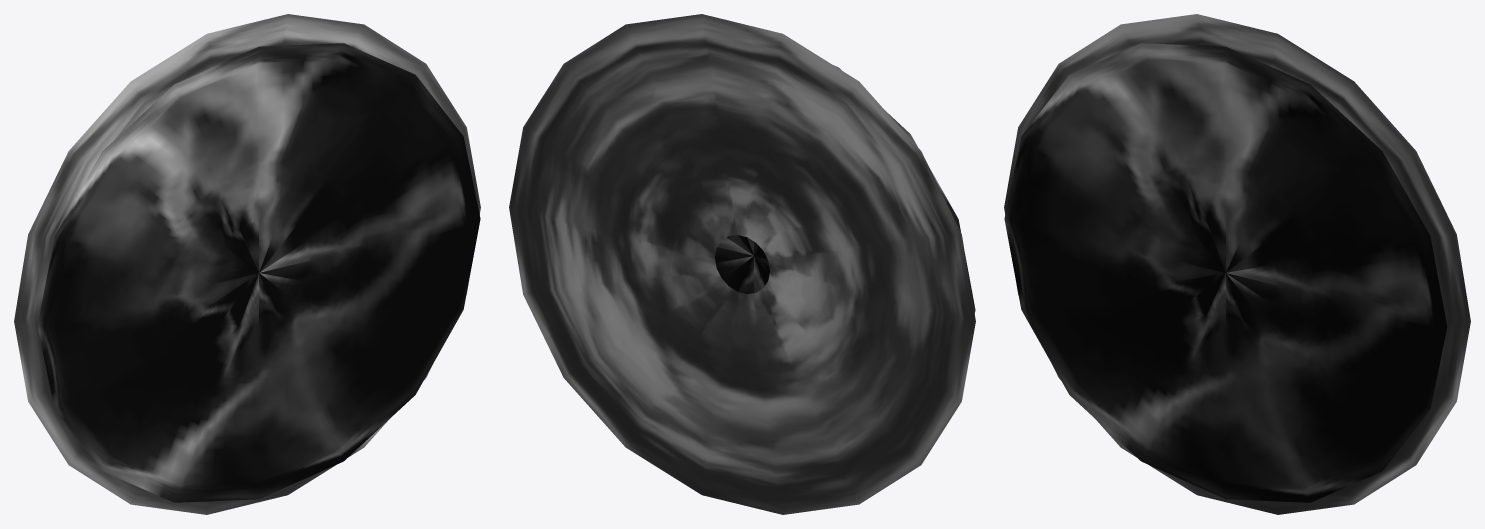
File: ChallengesMapHardestDlg.fbx
3 views of the same model, side by side, from view 1: azimuth 30°, elevation 25°; view 2: azimuth 150°, elevation 25°; view 3: azimuth 330°, elevation 25° (orthographic).
Visible parts, largest first — view 1: FX_Mesh_Sphere01, FX_Mesh_Sphere02; view 2: FX_Mesh_Sphere02, FX_Mesh_Sphere01; view 3: FX_Mesh_Sphere01, FX_Mesh_Sphere02.
Part boxes in pixels (<box>): FX_Mesh_Sphere01: <box>37,43,480,502</box>; FX_Mesh_Sphere02: <box>14,14,480,514</box>; FX_Mesh_Sphere02: <box>509,14,975,514</box>; FX_Mesh_Sphere01: <box>715,65,975,313</box>; FX_Mesh_Sphere01: <box>1004,43,1447,502</box>; FX_Mesh_Sphere02: <box>1004,14,1470,514</box>.
Bounding box in the file's own units: 878 × 865 × 37.84.
